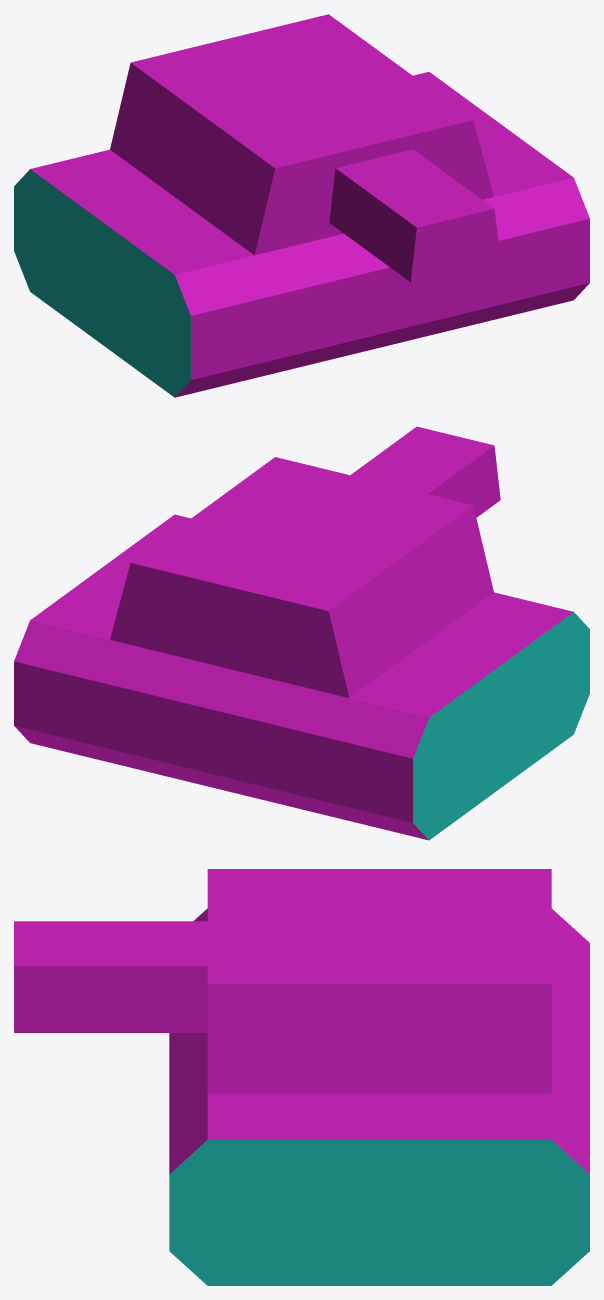
Rendered from czolg.fbx.
3 views of the same model, one above another, from view 1: azimuth 30°, elevation 25°; view 2: azimuth 150°, elevation 25°; view 3: azimuth 270°, elevation 25° (orthographic). The views are drawn at different scales.
Visible parts, largest first — view 1: czolg; view 2: czolg; view 3: czolg.
Boxes of the visible parts, bbox=[...] form: czolg: bbox=[14, 14, 589, 397]; czolg: bbox=[14, 426, 589, 840]; czolg: bbox=[14, 869, 589, 1285].
Bounding box in the file's own units: 187 × 91.82 × 197.
